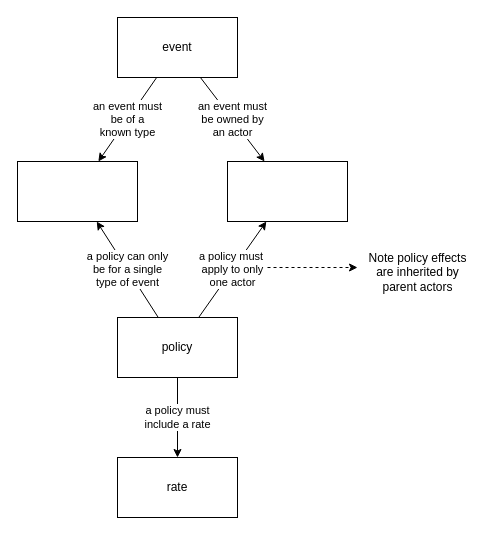
The diagram is 490 pixels wide and 535 high, and some of its shapes have lost their labels. Each missing label, with the centre of its shape:
"actor" goes at [287,191].
"event_type" goes at [77,191].
